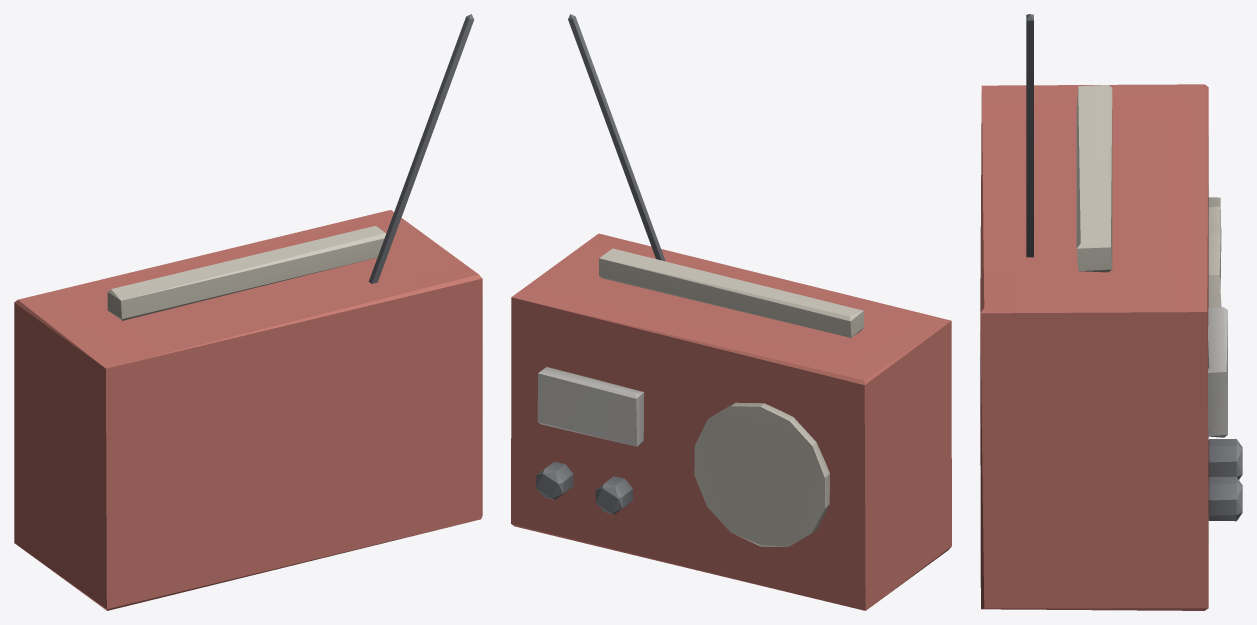
The model's file is furn_radio__red_low.glb.
3 renders of one model, left to right at view 1: azimuth 30°, elevation 25°; view 2: azimuth 150°, elevation 25°; view 3: azimuth 270°, elevation 25°, orthographic. The views are drawn at different scales.
Bounding box in the file's own units: 0.4279 × 0.5182 × 0.2041.
